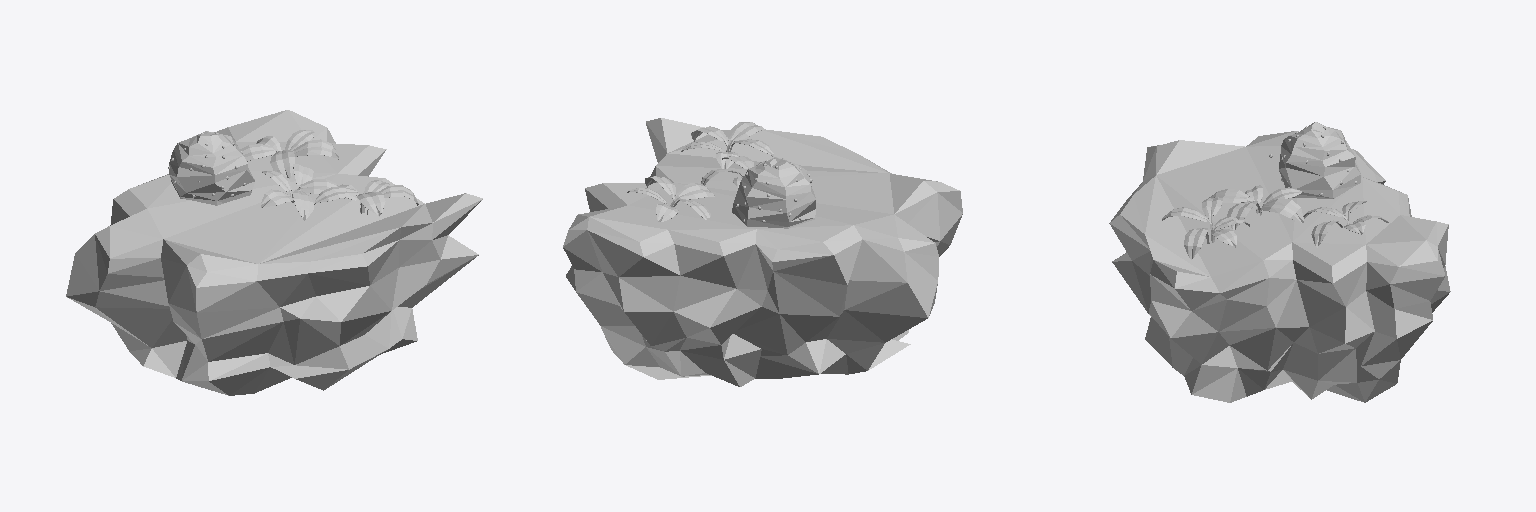
The model's file is Island2.obj.
3 views of the same model, side by side, from view 1: azimuth 30°, elevation 25°; view 2: azimuth 150°, elevation 25°; view 3: azimuth 270°, elevation 25° (orthographic).
Visible parts, largest first — view 1: Plane_Plane.001, Sphere.106_Sphere.107, leaf.012_Plane.015; view 2: Plane_Plane.001, Sphere.106_Sphere.107; view 3: Plane_Plane.001, Sphere.106_Sphere.107, leaf.002_Plane.005.
Boxes of the visible parts, x1=… form: Plane_Plane.001: x1=66, y1=110, x2=482, y2=395; Sphere.106_Sphere.107: x1=169, y1=131, x2=254, y2=205; leaf.012_Plane.015: x1=293, y1=139, x2=338, y2=159; Plane_Plane.001: x1=563, y1=118, x2=962, y2=386; Sphere.106_Sphere.107: x1=732, y1=157, x2=815, y2=228; Plane_Plane.001: x1=1109, y1=131, x2=1450, y2=402; Sphere.106_Sphere.107: x1=1279, y1=122, x2=1360, y2=198; leaf.002_Plane.005: x1=1259, y1=198, x2=1303, y2=222.
Bounding box in the file's own units: 2.03 × 1.29 × 1.72.